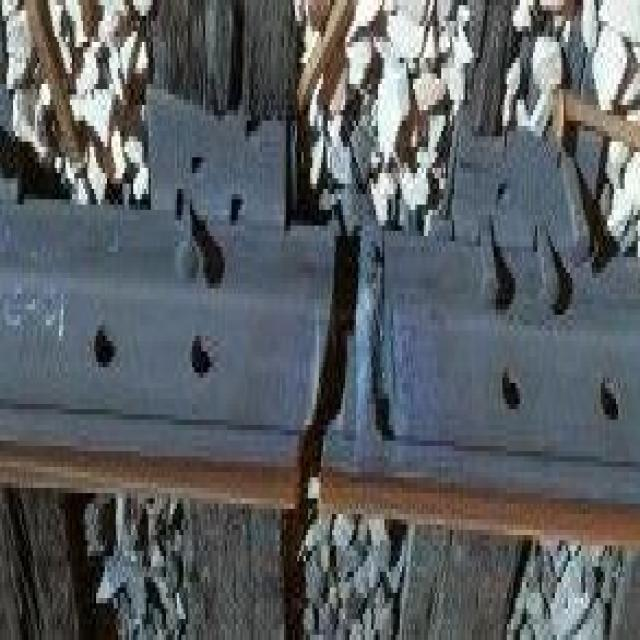broken_rail_high: (288, 205, 362, 514)
